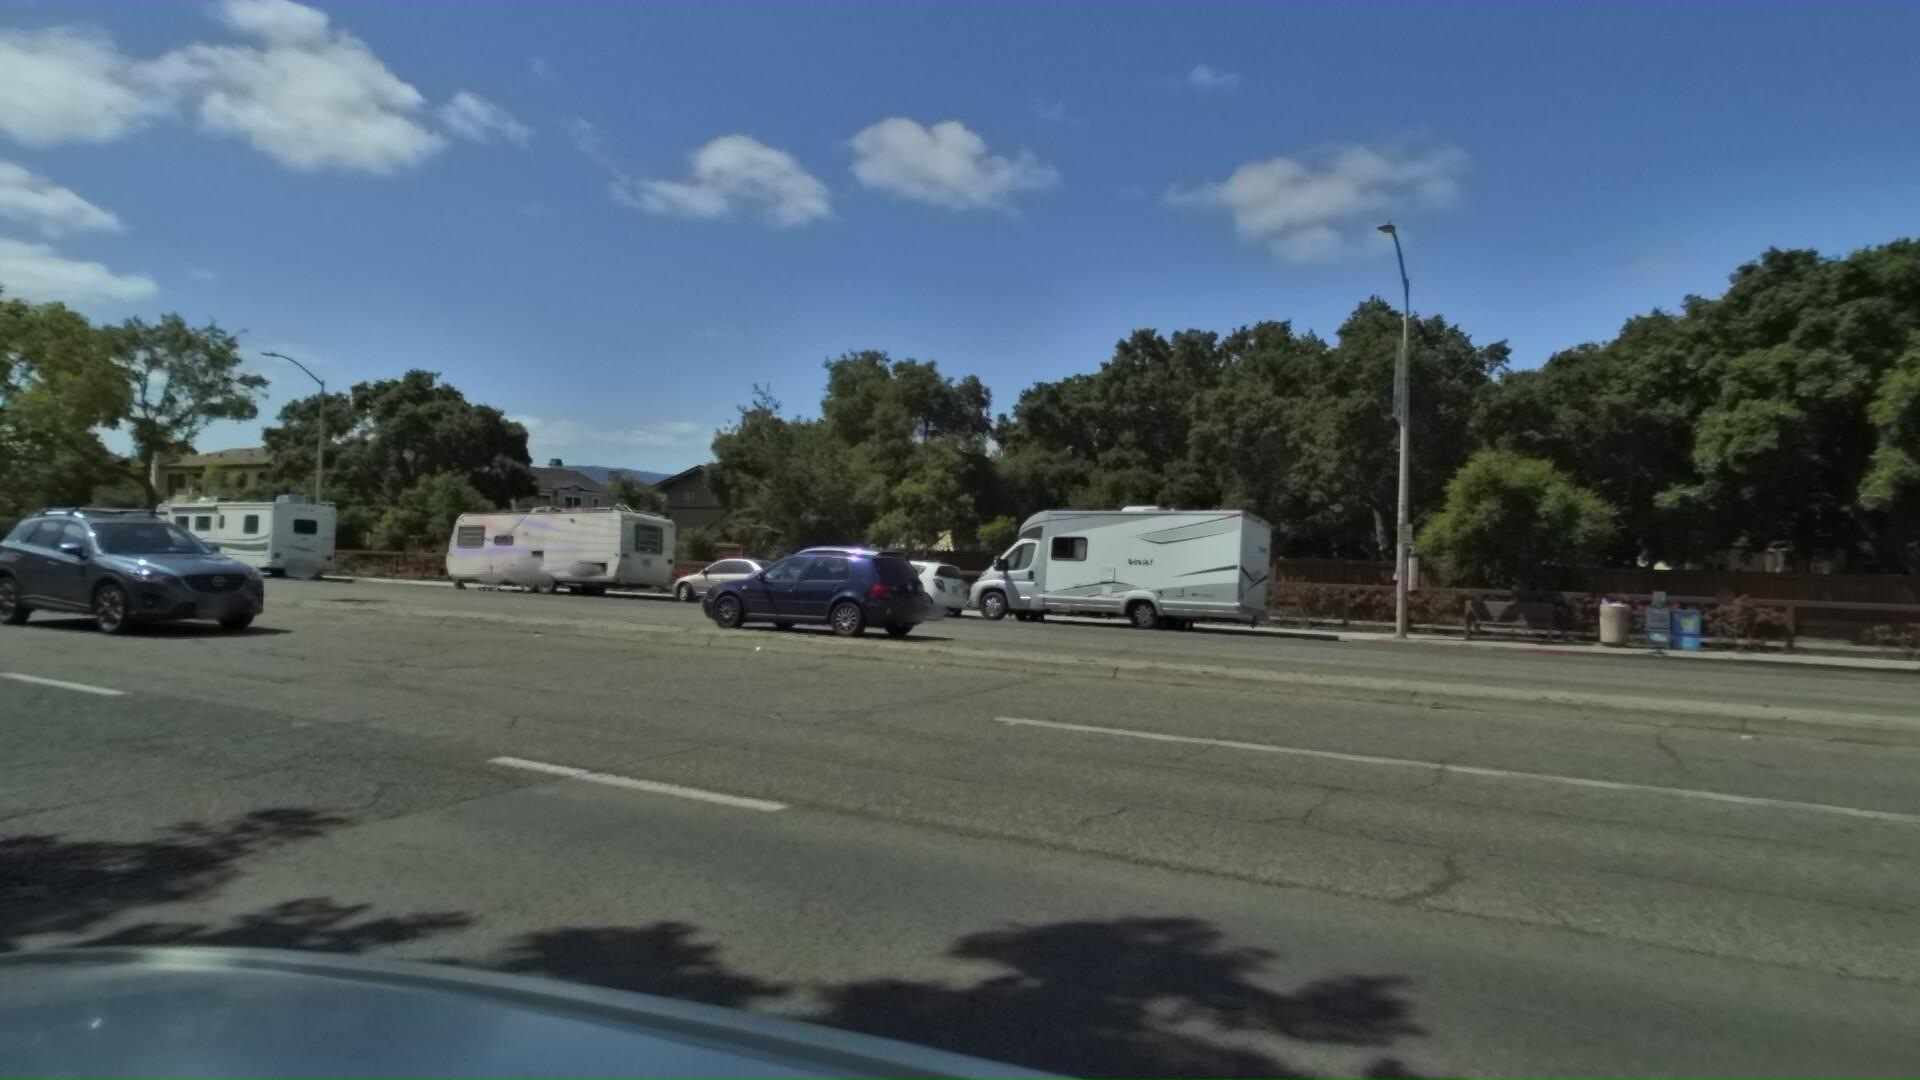car: (659, 538, 905, 638), (713, 535, 913, 609), (822, 551, 977, 618), (663, 550, 814, 611)
other_vehicle: (949, 495, 1278, 640), (440, 495, 690, 600), (144, 484, 349, 589)
